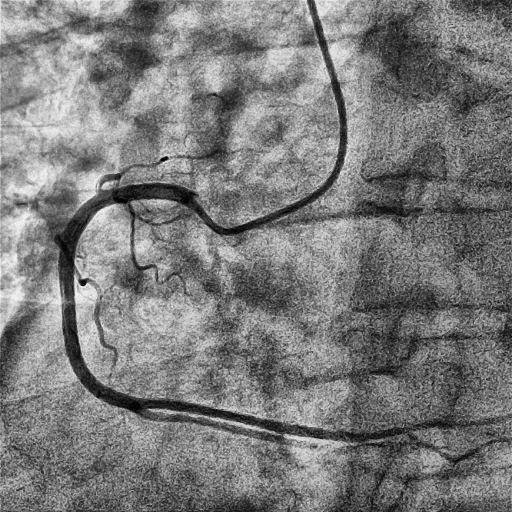pborca: (143, 398, 512, 442)
pda: (126, 409, 511, 463)
rca: (60, 182, 196, 409)
